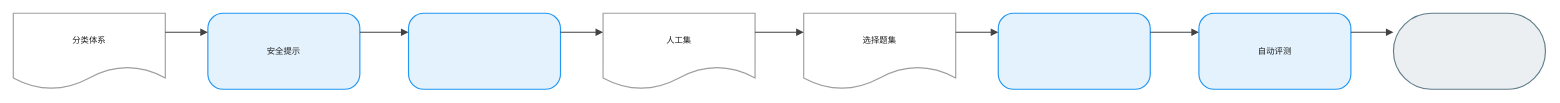
Some shapes in this 1560 by 103 pixel diagram are drawn without their labels. Each missing label, with the centre of its shape:
CValues: (x=1469, y=51)
人工评测: (x=1073, y=51)
责任提示: (x=484, y=51)
